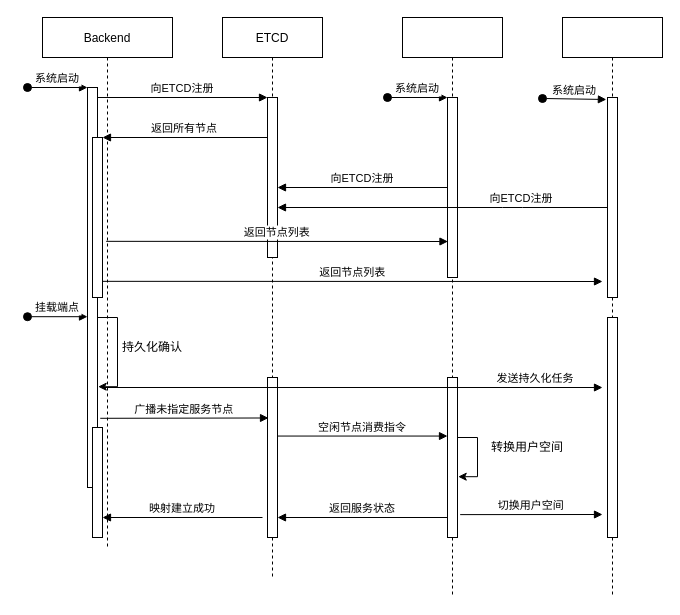
This 680x615 diagram has some shape labels left out. Each missing label, with the centre of its shape:
Datahub: point (612, 307)
Subapp: point (452, 307)
